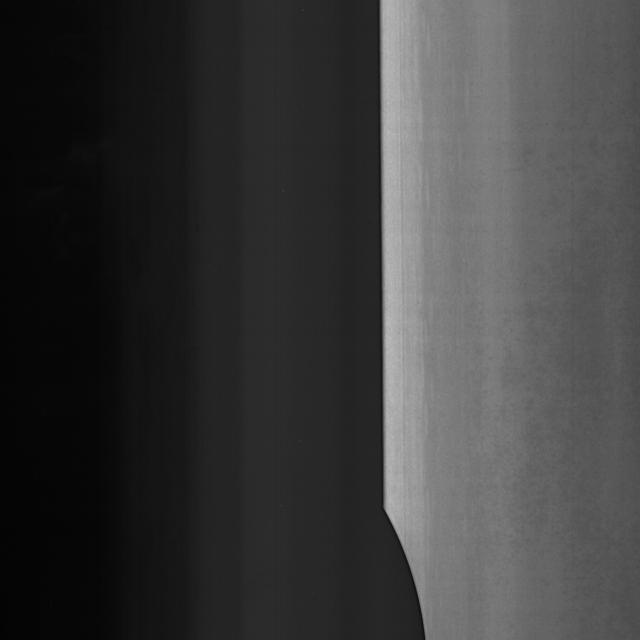silk_spot: (374, 495, 434, 639)
